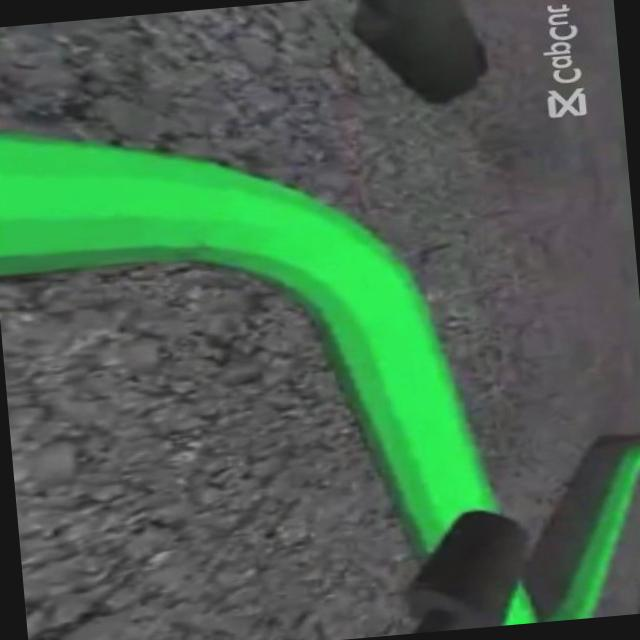gas: (0, 89, 425, 343), (254, 154, 496, 522)
